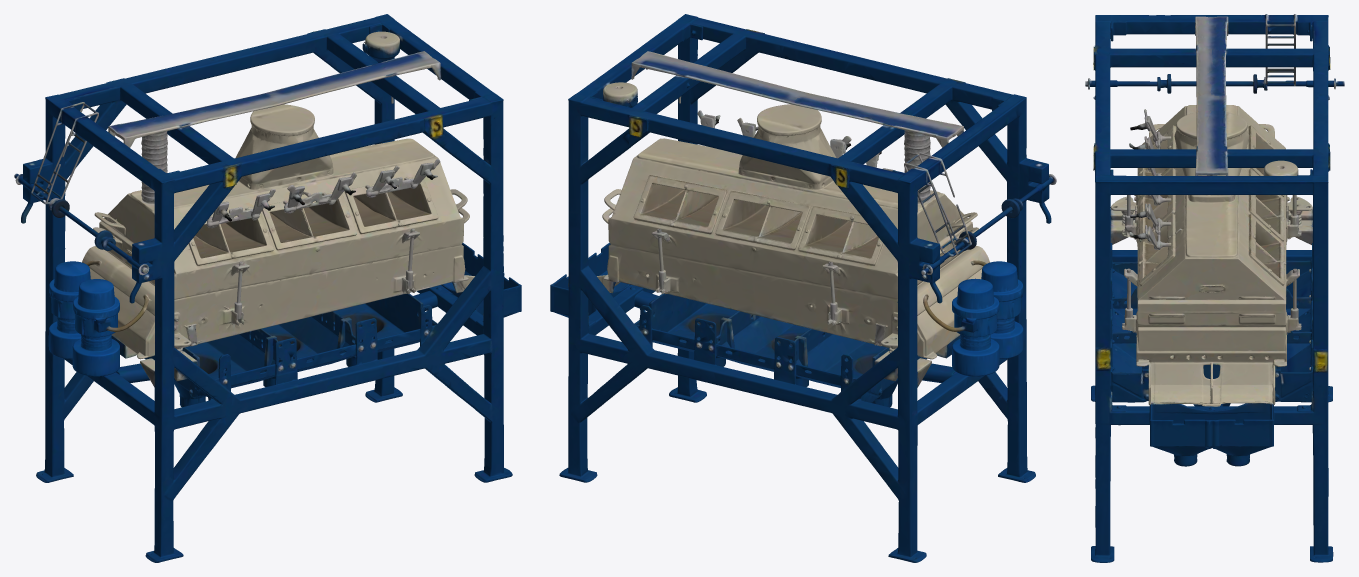
File: jcr_05.glb
The picture shows the model from 3 angles, left to right: view 1: azimuth 30°, elevation 25°; view 2: azimuth 150°, elevation 25°; view 3: azimuth 270°, elevation 25°; orthographic projection.
Parts seen in each view (by area): view 1: tripo_node_da623e16-d4d6-482f-8ec1-61d2fac5c190; view 2: tripo_node_da623e16-d4d6-482f-8ec1-61d2fac5c190; view 3: tripo_node_da623e16-d4d6-482f-8ec1-61d2fac5c190.
Boxes of the visible parts, x1=… form: tripo_node_da623e16-d4d6-482f-8ec1-61d2fac5c190: x1=14, y1=14, x2=521, y2=562; tripo_node_da623e16-d4d6-482f-8ec1-61d2fac5c190: x1=550, y1=14, x2=1056, y2=562; tripo_node_da623e16-d4d6-482f-8ec1-61d2fac5c190: x1=1085, y1=14, x2=1344, y2=562.
Size of the model in its own units: 0.9783 by 0.8348 by 0.5136.
1 material, 1 textured.
